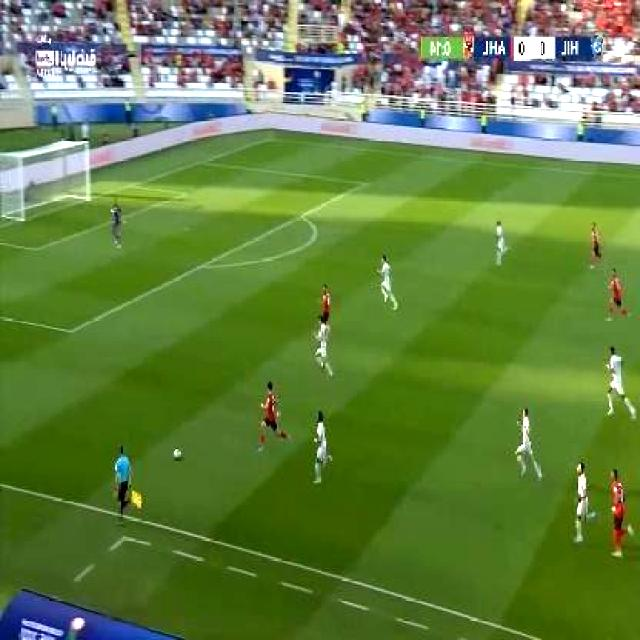bigarea_bottom_inner: (63, 318, 82, 342)
bigarea_top_inner: (357, 174, 374, 192)
bigarea_top_outter: (192, 152, 214, 171)
bottom_arc_area_intersection: (195, 257, 211, 274)
corner: (262, 130, 282, 144)
smallarea_bottom_inner: (31, 240, 46, 258)
smallarea_top_inner: (172, 185, 197, 203)
smallarea_top_outter: (125, 175, 143, 194)
top_arc_area_intersection: (292, 205, 314, 226)
